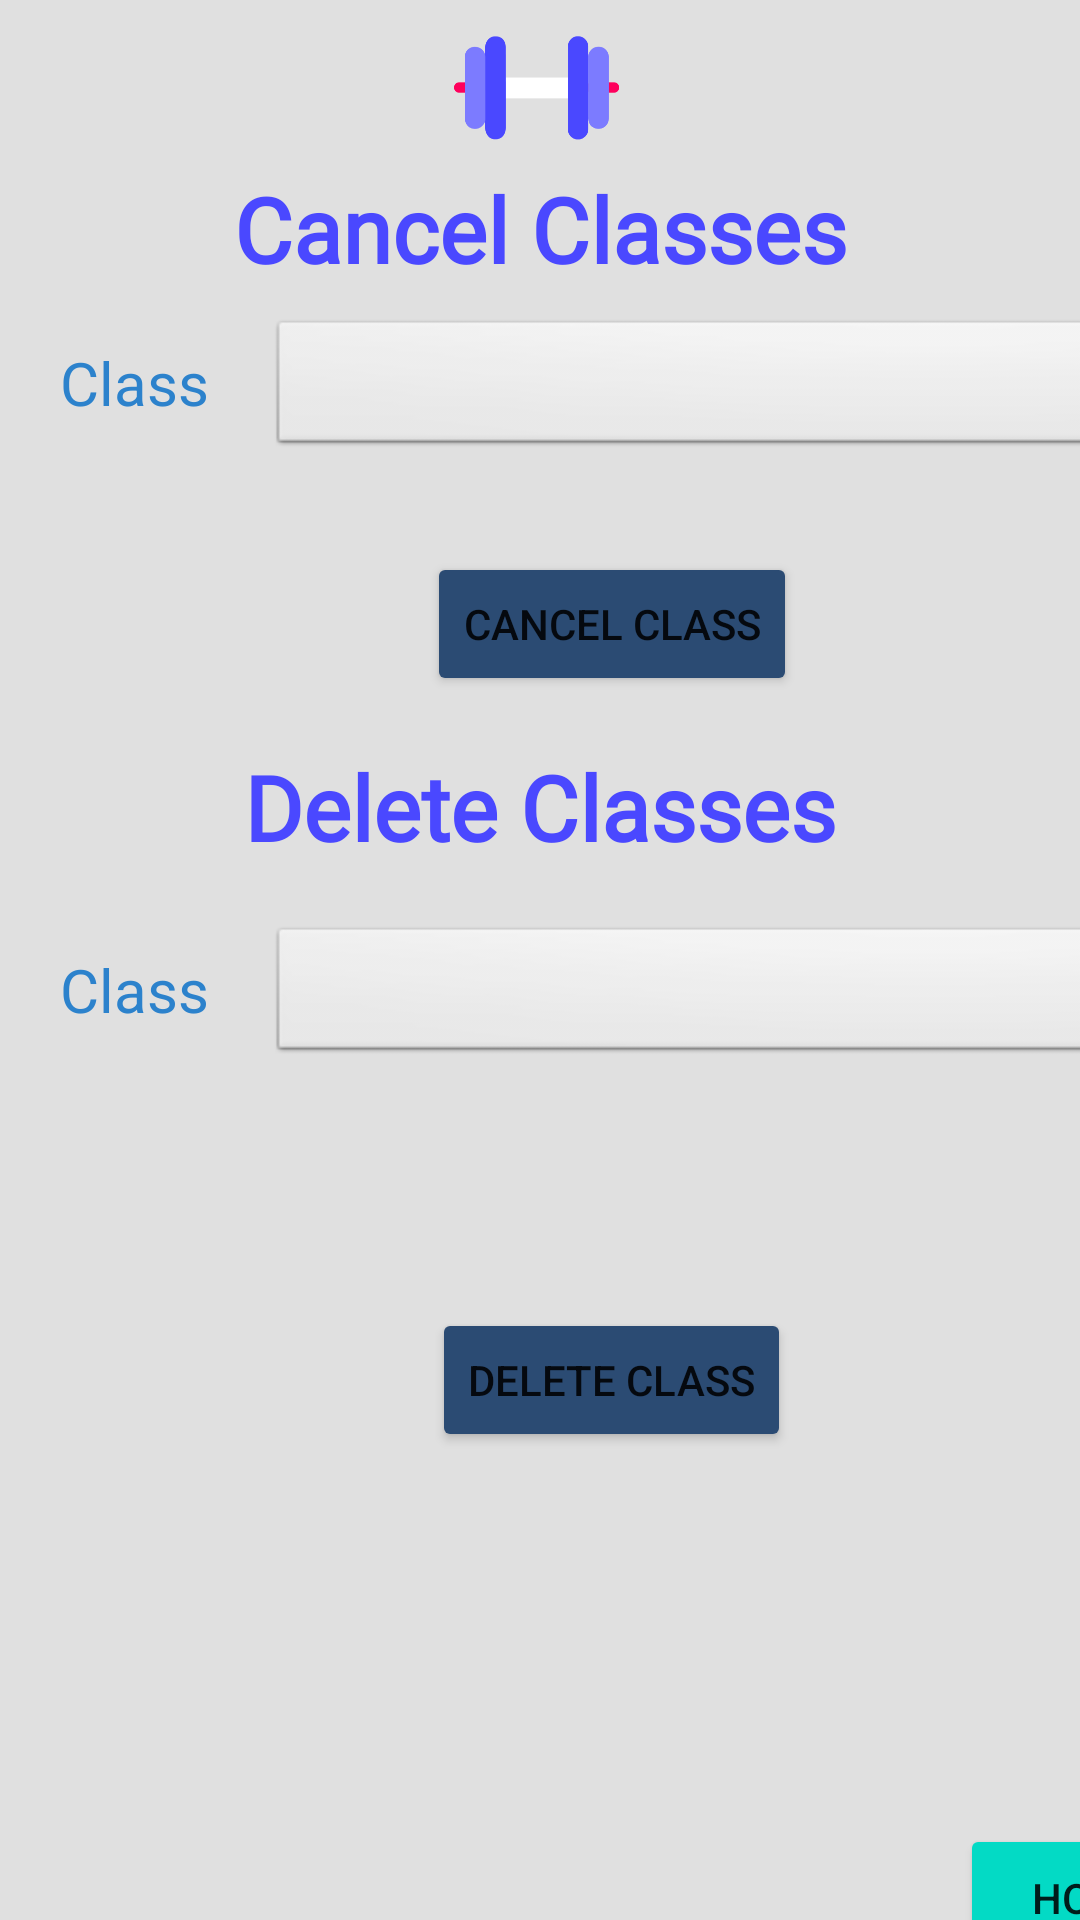

Point at icon controls on the screen. Image size 1080px x 1920px, points as (x,y).
dumbell purp: (536,88)
